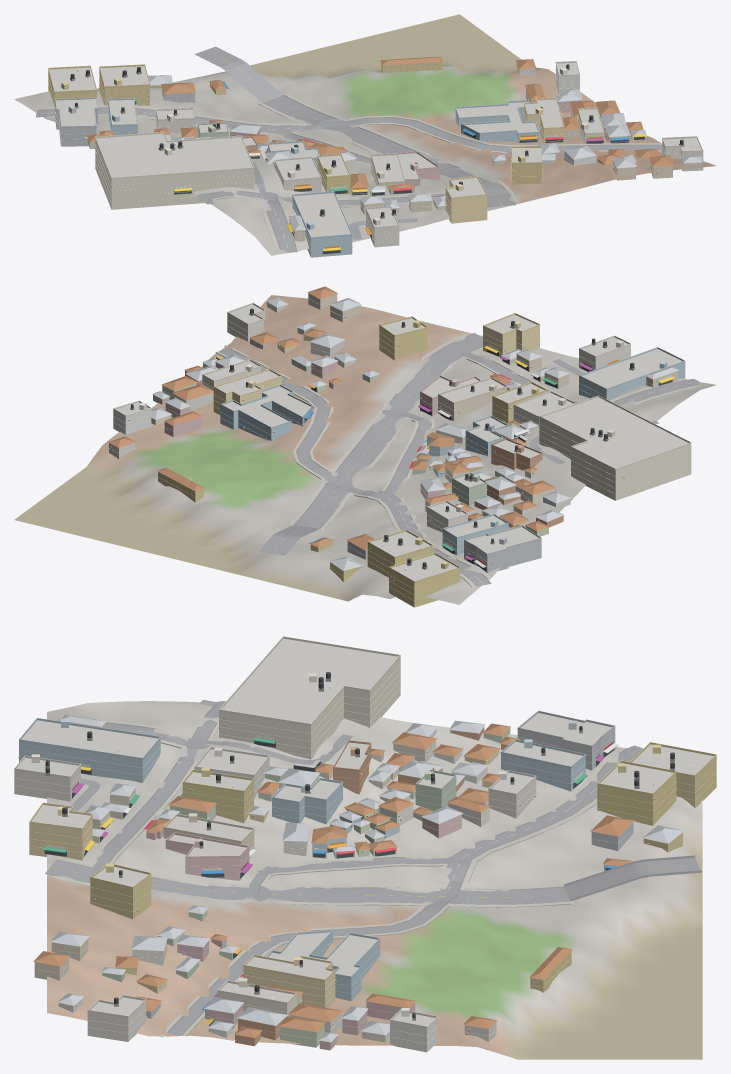
The picture shows the model from 3 angles, top to bottom: view 1: azimuth 30°, elevation 25°; view 2: azimuth 150°, elevation 25°; view 3: azimuth 270°, elevation 25°; orthographic projection. The views are drawn at different scales.
Parts seen in each view (by area): view 1: Buildings-col, Terrain-col, Details, Roads-col, Sidewalks-col; view 2: Terrain-col, Buildings-col, Details, Roads-col, Sidewalks-col; view 3: Terrain-col, Buildings-col, Details, Roads-col, Sidewalks-col.
Boxes of the visible parts, left/top/right/bottom form: Buildings-col: left=48, top=56, right=703, bottom=257; Terrain-col: left=14, top=14, right=715, bottom=255; Details: left=48, top=61, right=703, bottom=254; Roads-col: left=36, top=46, right=662, bottom=252; Sidewalks-col: left=37, top=93, right=662, bottom=250; Terrain-col: left=14, top=295, right=716, bottom=604; Buildings-col: left=108, top=286, right=691, bottom=607; Details: left=109, top=298, right=691, bottom=601; Roads-col: left=219, top=333, right=699, bottom=586; Sidewalks-col: left=215, top=334, right=700, bottom=586; Terrain-col: left=47, top=701, right=702, bottom=1059; Buildings-col: left=14, top=638, right=716, bottom=1052; Details: left=14, top=636, right=716, bottom=1044; Roads-col: left=45, top=699, right=701, bottom=1035; Sidewalks-col: left=47, top=706, right=625, bottom=1037.
Bounding box in the file's own units: 302 × 47.58 × 274.
